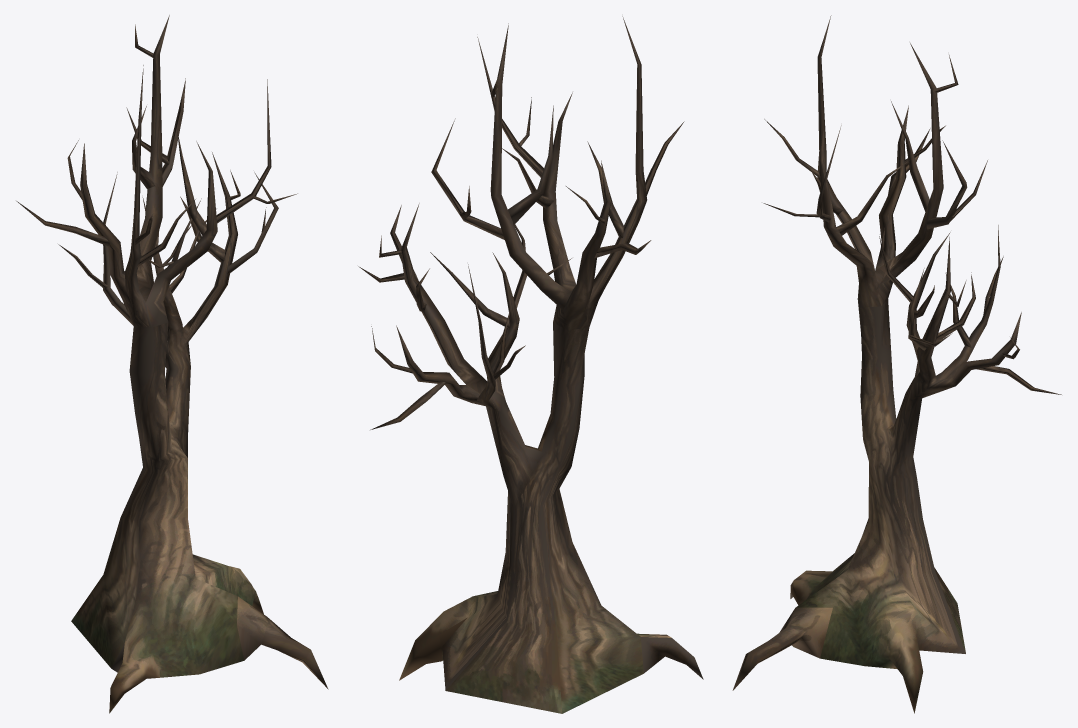
Rendered from plants_tall_tree_trunks205.fbx.
3 renders of one model, left to right at view 1: azimuth 30°, elevation 25°; view 2: azimuth 150°, elevation 25°; view 3: azimuth 270°, elevation 25°, orthographic. The views are drawn at different scales.
Parts seen in each view (by area): view 1: Material_#238683193/fancy_tree; view 2: Material_#238683193/fancy_tree; view 3: Material_#238683193/fancy_tree.
Part boxes in pixels (bbox=[...]): Material_#238683193/fancy_tree: bbox=[16, 15, 328, 713]; Material_#238683193/fancy_tree: bbox=[358, 16, 703, 713]; Material_#238683193/fancy_tree: bbox=[732, 15, 1061, 713].
Size of the model in its own units: 3.5 by 8.06 by 3.87.
